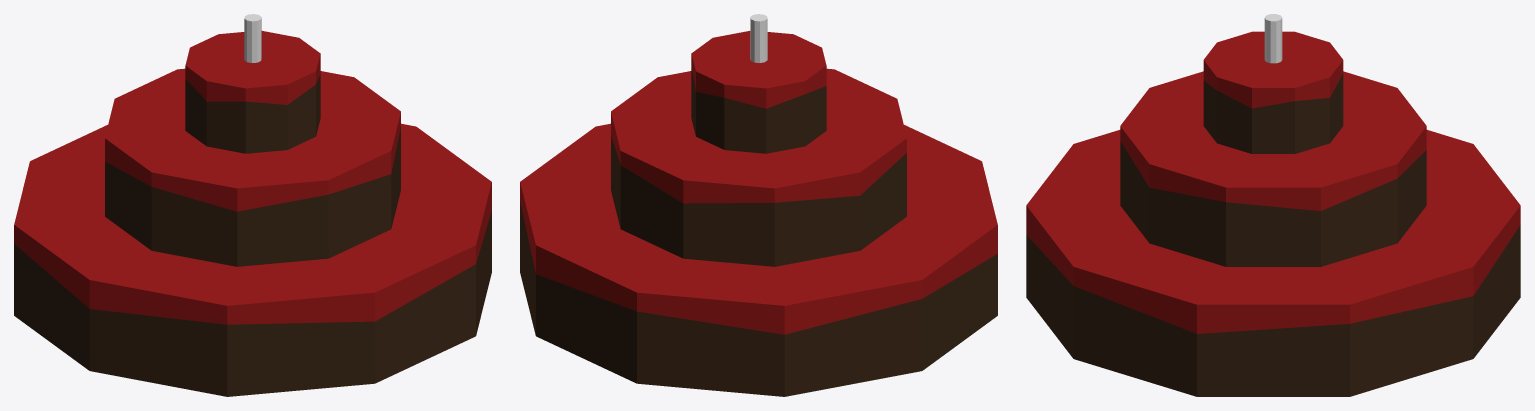
The model's file is Horror2020_Cake.fbx.
3 renders of one model, left to right at view 1: azimuth 30°, elevation 25°; view 2: azimuth 150°, elevation 25°; view 3: azimuth 270°, elevation 25°, orthographic.
Visible parts, largest first — view 1: Cake; view 2: Cake; view 3: Cake.
Part boxes in pixels (box(x1,y1,x2,y2)): Cake: box(14, 14, 491, 396); Cake: box(520, 14, 997, 396); Cake: box(1026, 14, 1520, 396).
Size of the model in its own units: 190 by 125 by 200.
